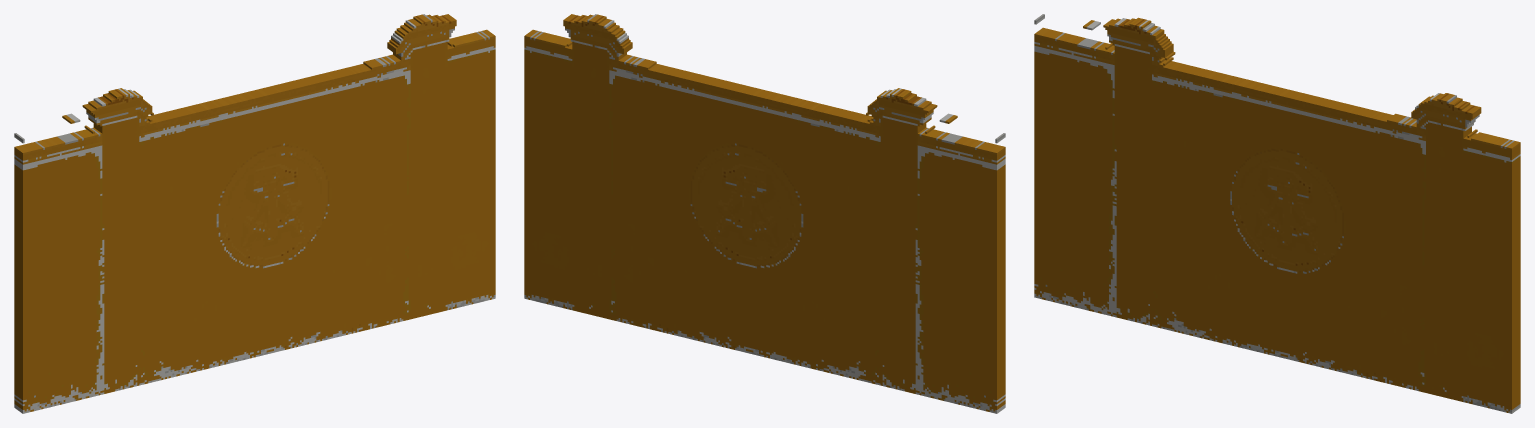
File: yellowPhanTuWall2.obj
3 views of the same model, side by side, from view 1: azimuth 30°, elevation 25°; view 2: azimuth 150°, elevation 25°; view 3: azimuth 330°, elevation 25° (orthographic).
Bounding box in the file's own units: 25.6 × 15.2 × 0.8.
